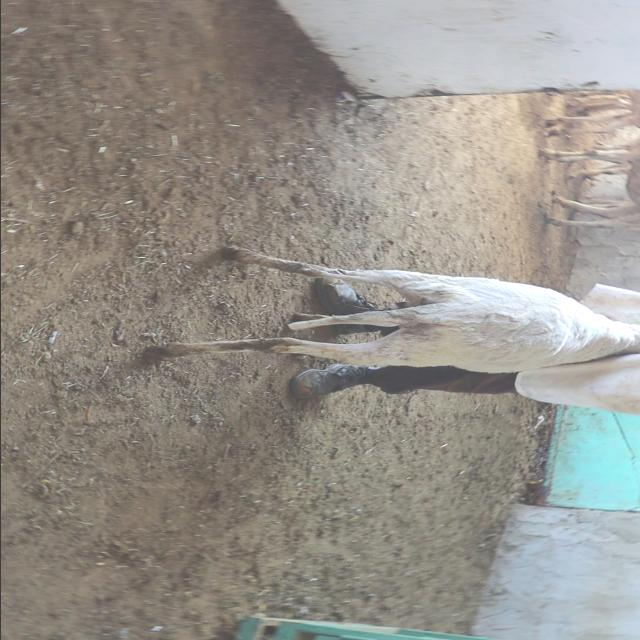Score_3: (147, 248, 640, 372)
